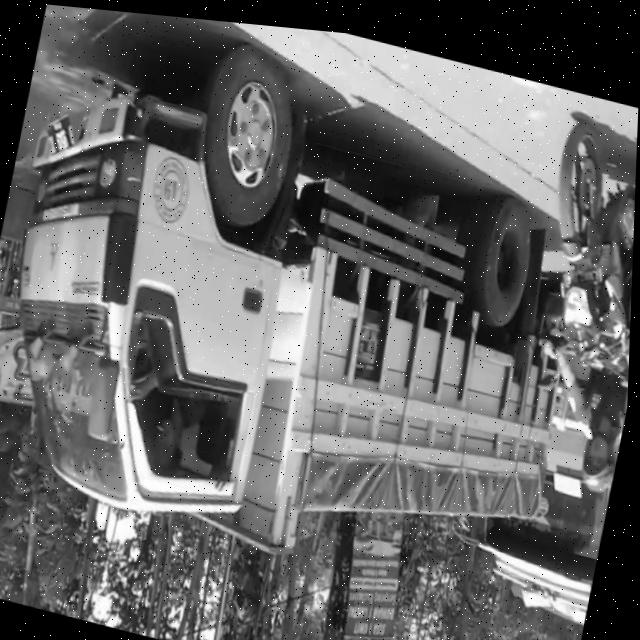truck: (1, 33, 355, 561)
